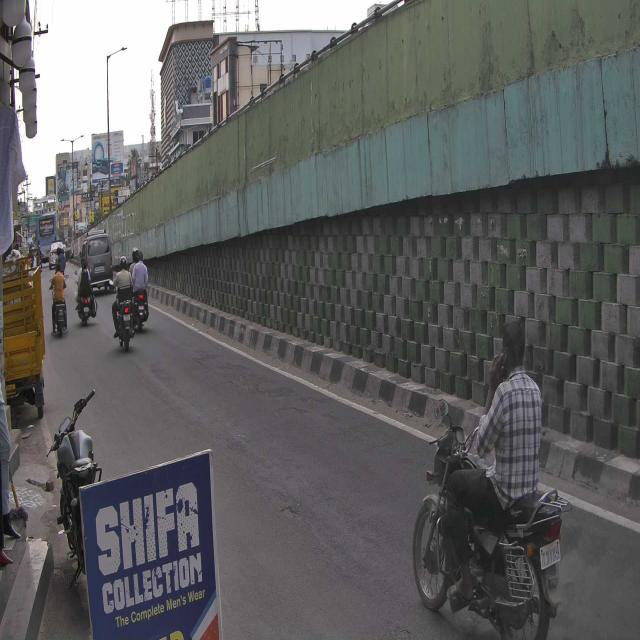single_rider: (409, 316, 571, 640)
